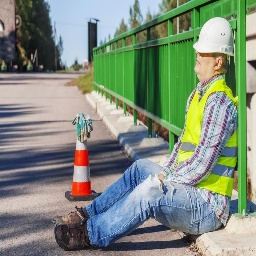helmet: (190, 15, 237, 64)
person: (51, 11, 244, 248)
vest: (178, 77, 237, 198)
